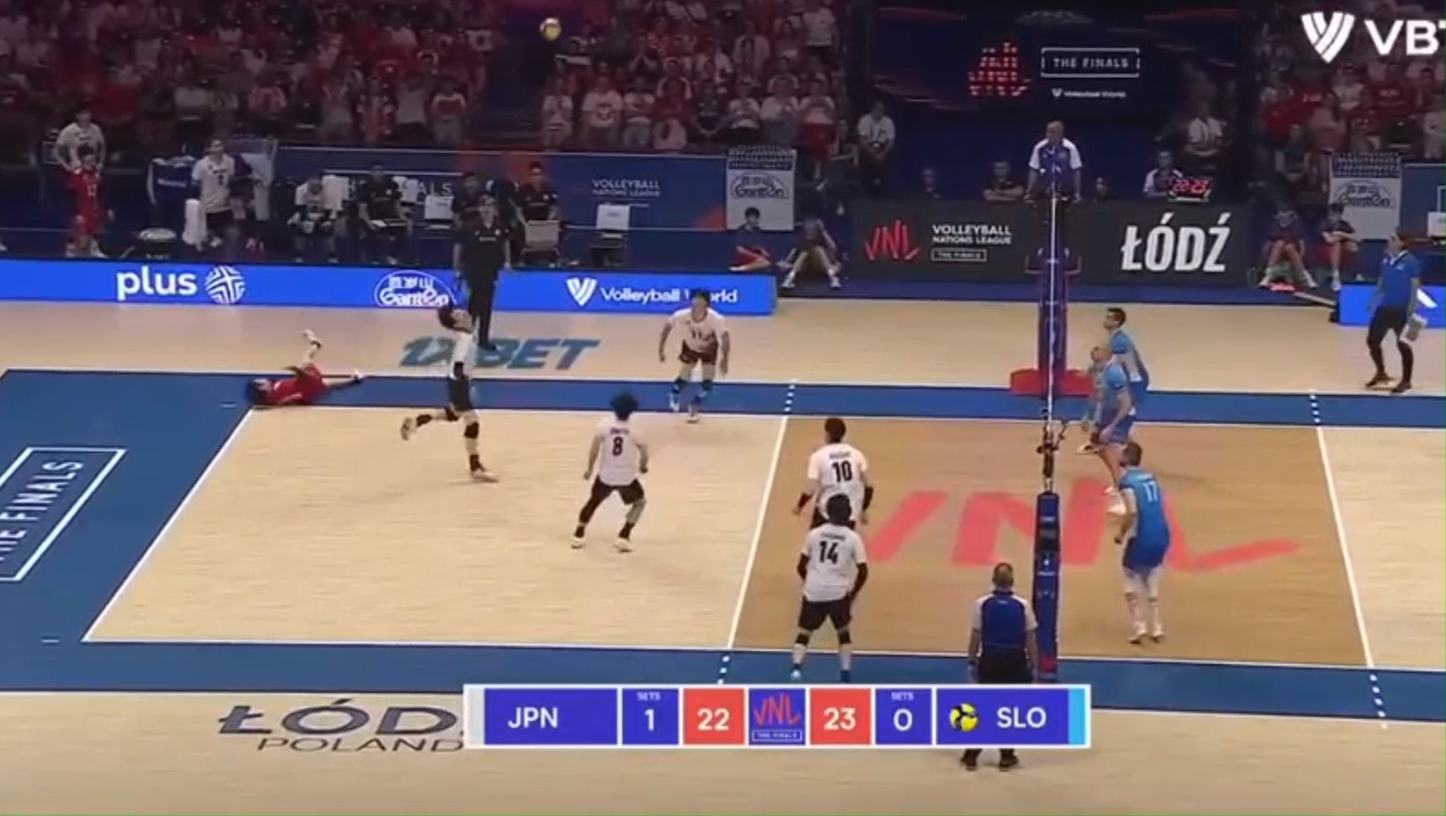ball: (539, 17, 561, 41)
player: (1115, 440, 1171, 644), (1091, 344, 1135, 481), (1105, 308, 1150, 408)
player 1: (399, 301, 496, 481), (790, 493, 869, 682), (574, 393, 649, 552), (658, 289, 731, 422), (247, 330, 363, 406), (795, 417, 873, 528)
referee: (1366, 230, 1421, 394), (1026, 121, 1083, 277), (969, 562, 1038, 684), (456, 195, 510, 349)
